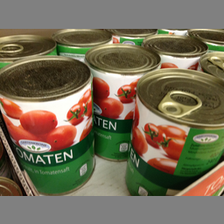tomato_sauce: (1, 55, 97, 196), (124, 68, 224, 196), (85, 44, 159, 159)
